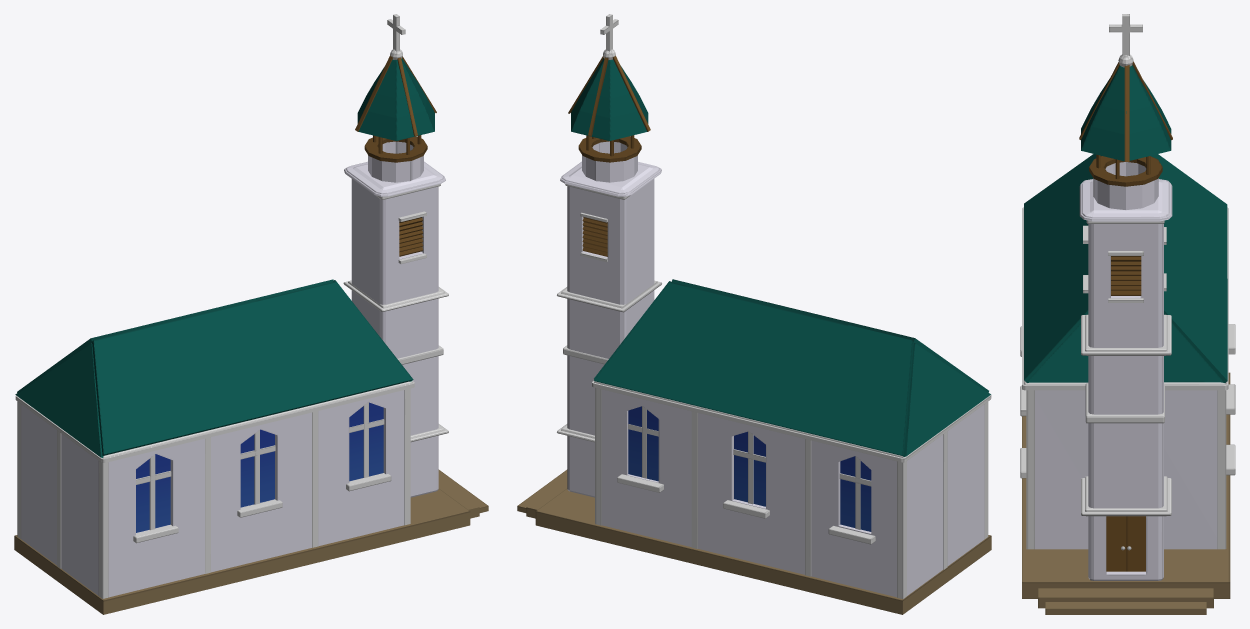
File: church_russian.obj
3 renders of one model, left to right at view 1: azimuth 30°, elevation 25°; view 2: azimuth 150°, elevation 25°; view 3: azimuth 270°, elevation 25°, orthographic. The views are drawn at different scales.
Size of the model in its own units: 574 by 670 by 230.
Materials: 1 (1 with a texture image).
